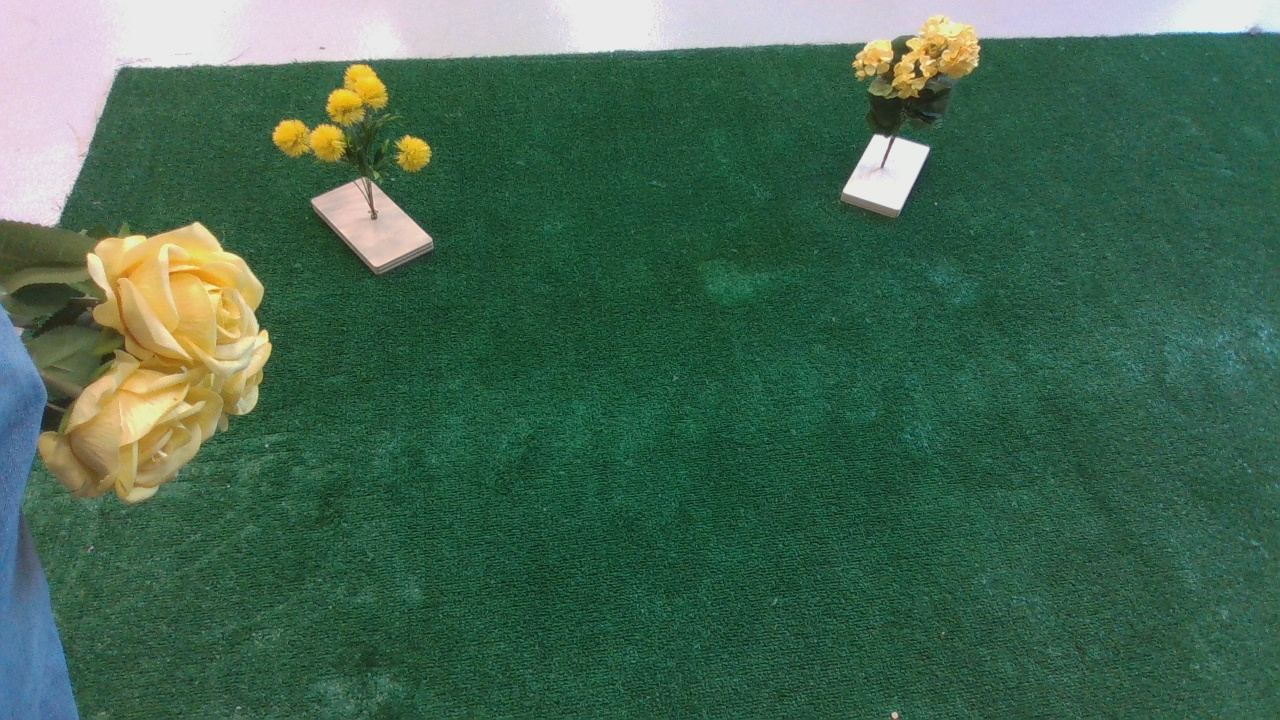dandelion: (273, 66, 451, 204)
geranium: (849, 20, 988, 149)
rose: (32, 206, 287, 510)
